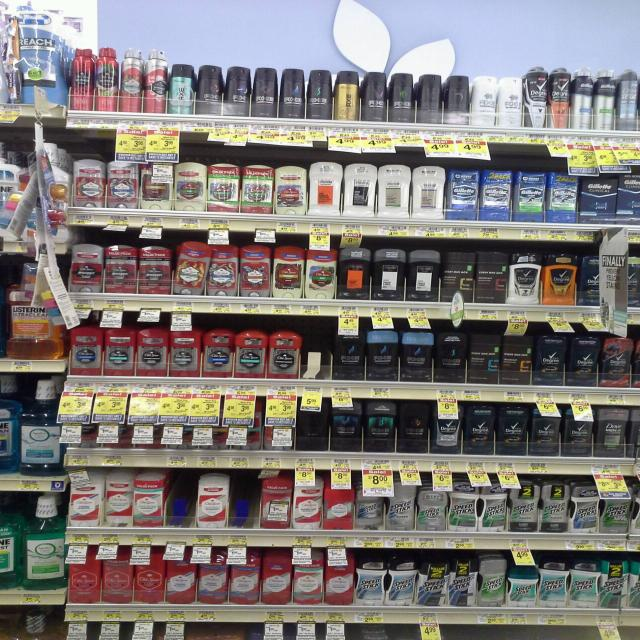unorganised: (171, 242, 210, 298)
